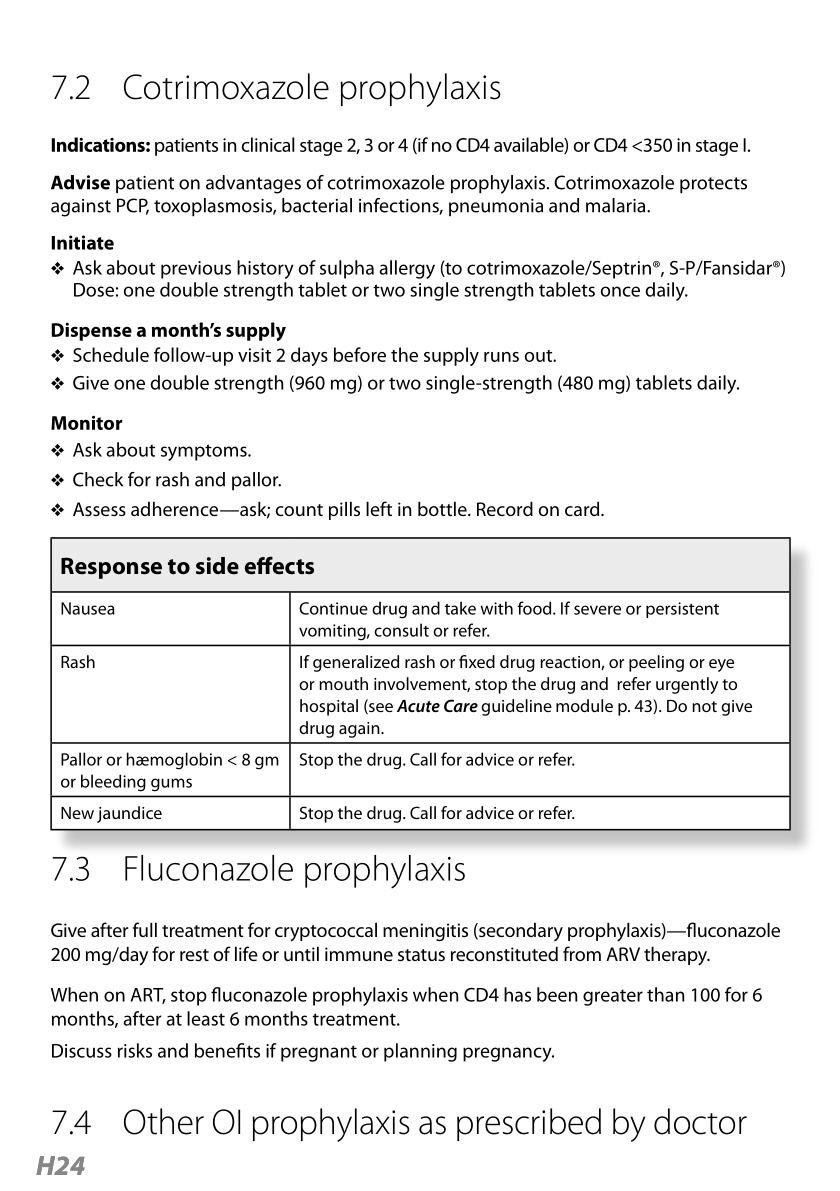merged_cells: (49, 536, 791, 831)
